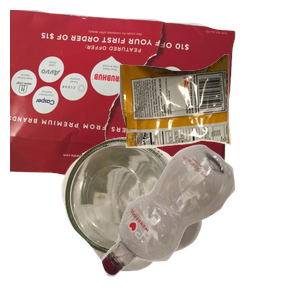glass: (59, 135, 254, 300)
paper: (10, 10, 238, 190)
plastic: (99, 142, 300, 300)
trash: (117, 52, 300, 193)
